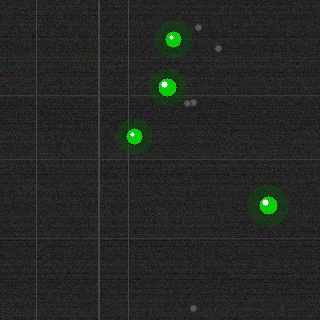green_normal: (156, 76, 178, 98), (257, 194, 279, 216), (124, 126, 144, 146), (163, 29, 183, 49)
